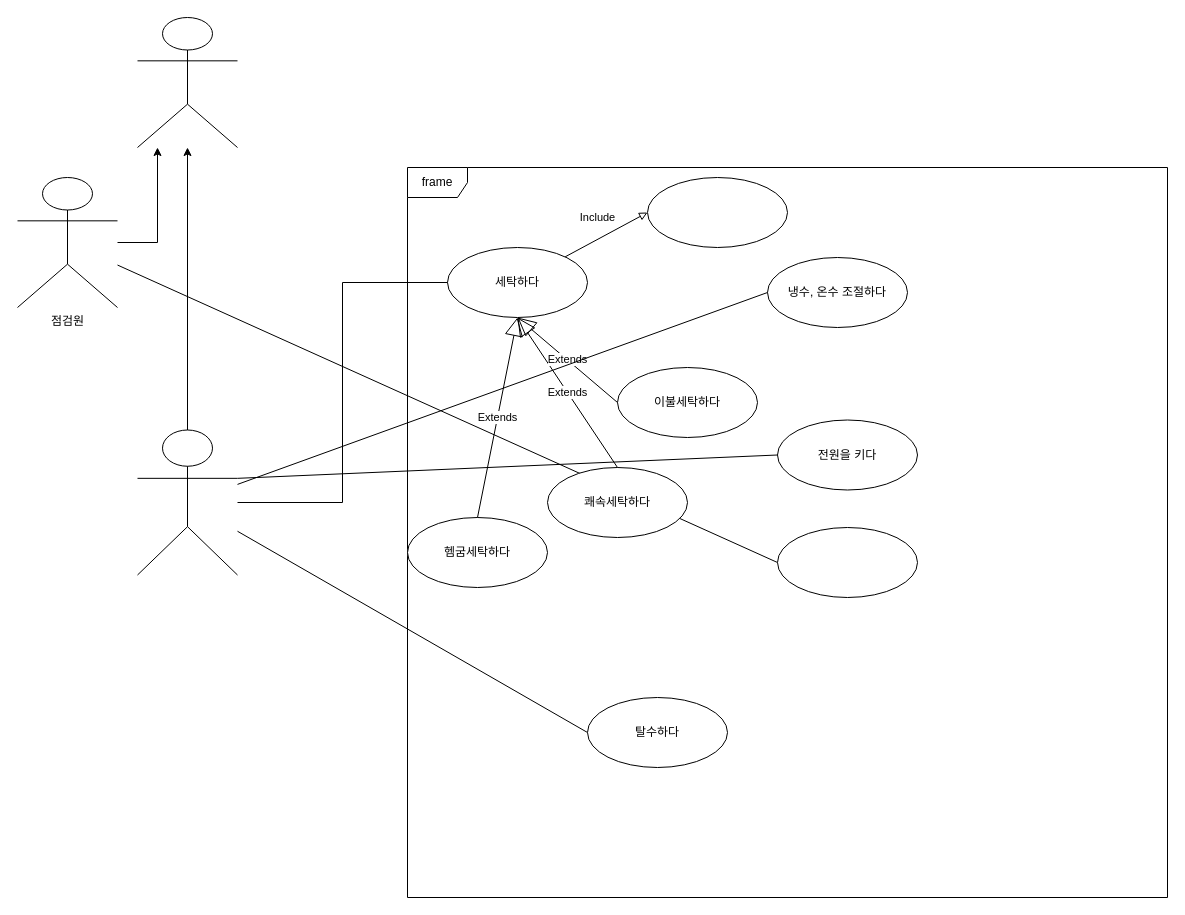
Some shapes in this 1185 by 915 pixel diagram are drawn without their labels. The shapes that lost their labels are listed below. From the top down, each one's centre as x and y in pixels, then its label:
the point at 187,82: 사용자
the point at 717,212: 세제를 넣다
the point at 187,502: 소비자
the point at 847,562: 전원을 끄다
